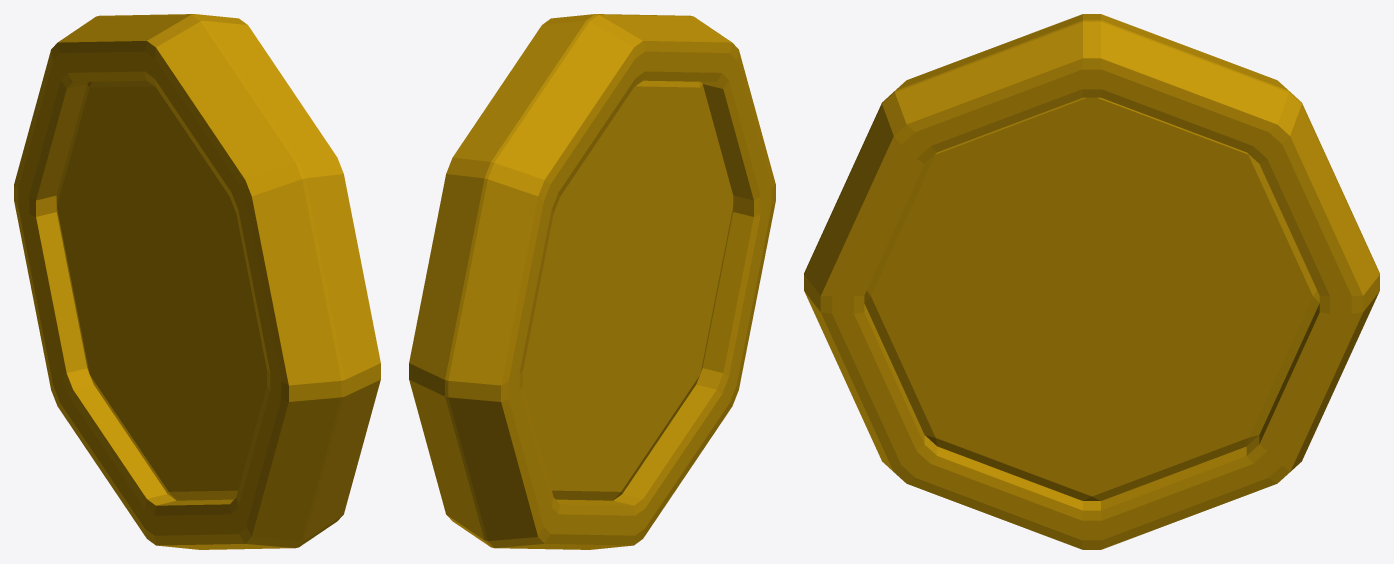
The model's file is kingCoin.fbx.
3 views of the same model, side by side, from view 1: azimuth 30°, elevation 25°; view 2: azimuth 150°, elevation 25°; view 3: azimuth 270°, elevation 25° (orthographic).
Visible parts, largest first — view 1: Cylinder; view 2: Cylinder; view 3: Cylinder.
Boxes of the visible parts, x1,y1,x2,y2 form: Cylinder: (14,14,380,549); Cylinder: (409,14,775,549); Cylinder: (804,14,1379,549).
Bounding box in the file's own units: 39.67 × 210 × 210.
